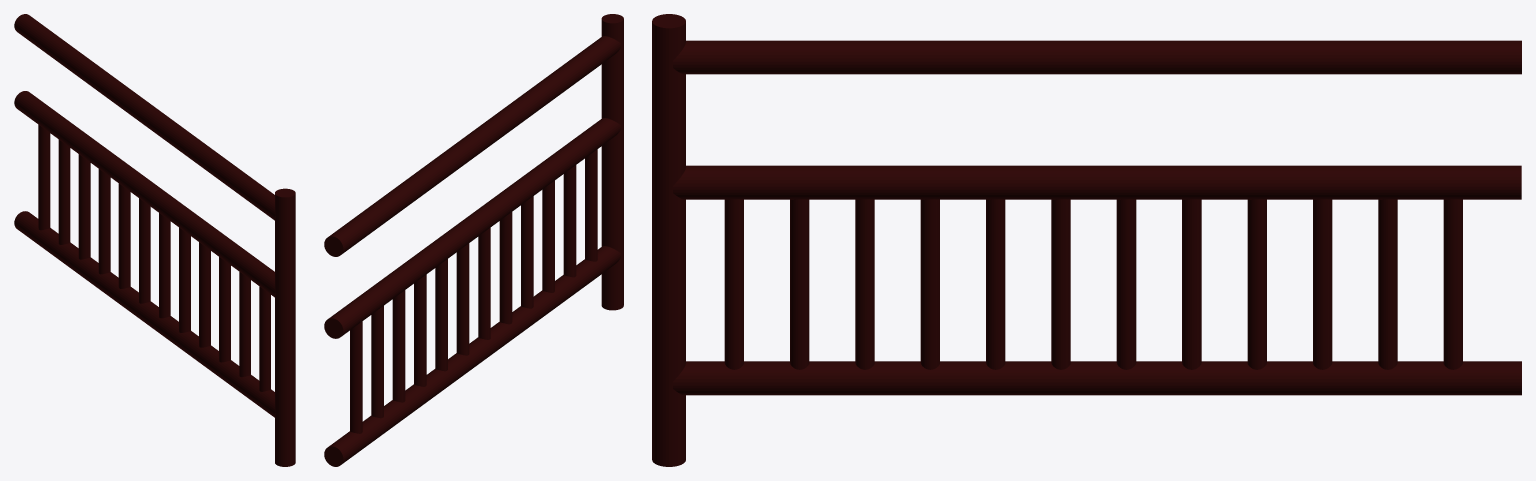
Rendered from WaterFenceOneFoot.fbx.
3 renders of one model, left to right at view 1: azimuth 30°, elevation 25°; view 2: azimuth 150°, elevation 25°; view 3: azimuth 270°, elevation 25°, orthographic. The views are drawn at different scales.
Parts seen in each view (by area): view 1: Cylinder.017; view 2: Cylinder.017; view 3: Cylinder.017.
Part boxes in pixels (x1,y1,x2,y2): Cylinder.017: [14, 14, 295, 466]; Cylinder.017: [324, 14, 623, 466]; Cylinder.017: [652, 14, 1521, 466].
Size of the model in its own units: 14 by 200 by 359.
